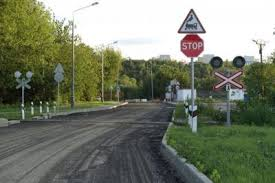1.2: (174, 7, 205, 33)
1.3.1: (212, 68, 244, 87)
